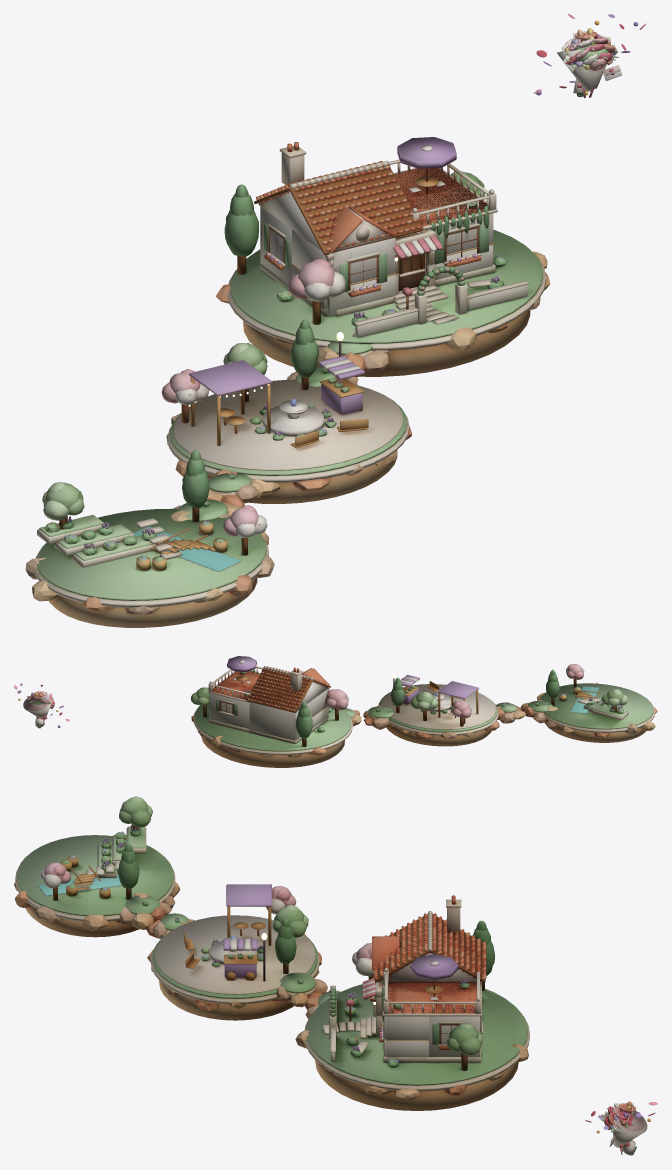
File: bloom_scroll_world.glb
3 views of the same model, one above another, from view 1: azimuth 30°, elevation 25°; view 2: azimuth 150°, elevation 25°; view 3: azimuth 270°, elevation 25° (orthographic). The views are drawn at different scales.
Parts seen in each view (by area): view 1: OutdoorIslandsBaked, VillaRoofBaked, VillaFrontUpperBaked, VillaInteriorShellBaked, HeroBouquetBaked, BrookWater; view 2: OutdoorIslandsBaked, VillaRoofBaked, VillaInteriorShellBaked, HeroBouquetBaked, VillaFrontUpperBaked, BrookWater; view 3: OutdoorIslandsBaked, VillaRoofBaked, VillaFrontUpperBaked, VillaInteriorShellBaked, HeroBouquetBaked, BrookWater.
Part boxes in pixels (x1,y1,x2,y2): OutdoorIslandsBaked: (25,171,550,627); VillaRoofBaked: (254,137,496,254); VillaFrontUpperBaked: (292,168,497,297); VillaInteriorShellBaked: (260,206,493,316); HeroBouquetBaked: (557,28,621,98); BrookWater: (133,526,240,571); OutdoorIslandsBaked: (191,664,657,767); VillaRoofBaked: (208,656,330,712); VillaInteriorShellBaked: (209,693,328,740); HeroBouquetBaked: (23,691,55,728); VillaFrontUpperBaked: (208,672,329,716); BrookWater: (570,686,599,713); OutdoorIslandsBaked: (14,796,529,1110); VillaRoofBaked: (372,895,486,1021); VillaFrontUpperBaked: (362,970,481,1042); VillaInteriorShellBaked: (374,982,481,1057); HeroBouquetBaked: (601,1101,647,1155); BrookWater: (38,874,137,895).
Bounding box in the file's own units: 39.78 × 7.61 × 29.93.
19 materials, 6 textured.
